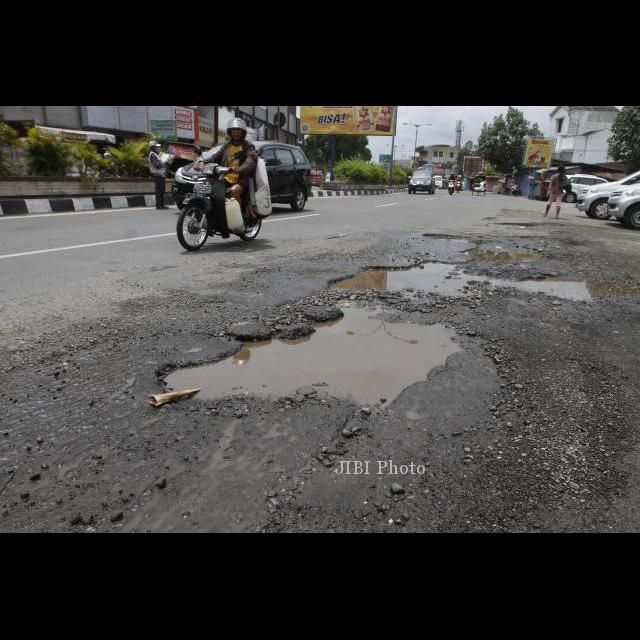lubang_kecil: (153, 290, 460, 431), (317, 251, 631, 307), (412, 226, 578, 269)
